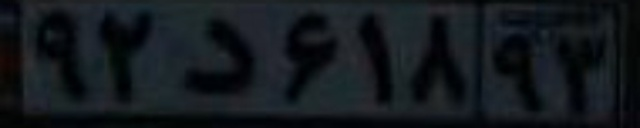1: (355, 12, 393, 105)
2: (97, 8, 157, 104)
3: (557, 32, 614, 111)
6: (278, 12, 340, 103)
8: (410, 11, 471, 109)
9: (31, 10, 89, 102), (489, 31, 548, 111)
dal: (179, 19, 259, 93)
